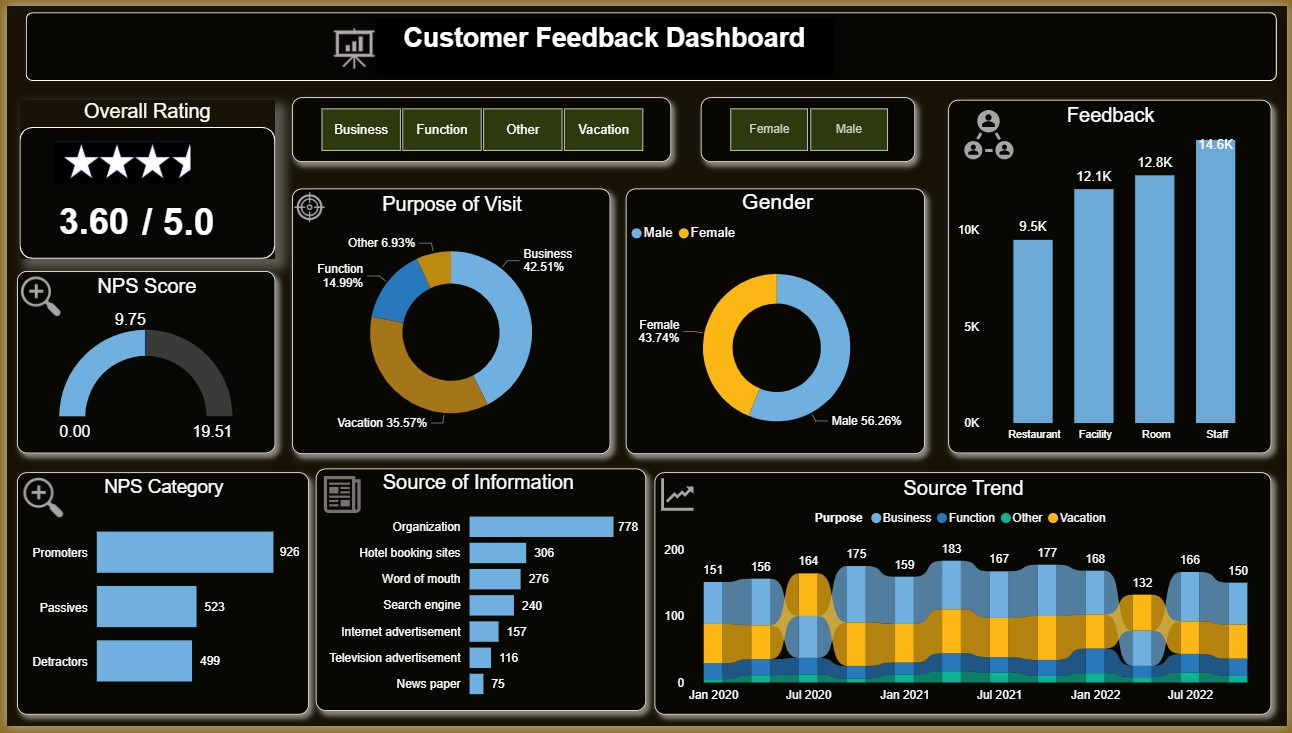

The dashboard page shown, as its layout file describes it:
{"tool":"powerbi","page":{"name":"Page 1","canvas":[1280,720],"ordinal":0},"visuals":[{"type":"shape","box":[19.3,6,1251.1,68.8],"z":0},{"type":"shape","title":"Overall Rating","box":[12.1,94.1,255.8,159.3],"z":1000},{"type":"slicer","fields":{"Values":["General.Purpose"]},"box":[284.7,91.7,378.8,65.1],"z":2000},{"type":"slicer","fields":{"Values":["General.Gender"]},"box":[693.7,91.7,214.7,65.1],"z":3000},{"type":"gauge","fields":{"Y":["General.NPS Score %"]},"box":[9.7,265.4,258.2,182.2],"z":4000},{"type":"clusteredBarChart","title":"NPS Category","fields":{"Category":["General.NPS"],"Y":["CountNonNull(General.NPS)"]},"box":[9.7,465.7,292,242.5],"z":5000},{"type":"donutChart","title":" Purpose of Visit","fields":{"Category":["General.Purpose"],"Y":["CountNonNull(General.Purpose)"]},"box":[284.7,182.2,318.5,265.4],"z":6000},{"type":"donutChart","title":"Gender ","fields":{"Category":["General.Gender"],"Y":["CountNonNull(General.Gender)"]},"box":[618.9,182.2,299.2,265.4],"z":7000},{"type":"clusteredBarChart","title":"Source of Information","fields":{"Category":["General.Source"],"Y":["CountNonNull(General.Source)"]},"box":[308.8,462.1,330.6,242.5],"z":8000},{"type":"ribbonChart","title":" Source Trend","fields":{"Y":["CountNonNull(General.Source)"],"Series":["General.Purpose"],"Category":["General.Checkout Date (bins)"]},"box":[647.9,465.7,616.5,242.5],"z":9000},{"type":"clusteredColumnChart","title":"Feedback","fields":{"Category":["Feedback.Feedback_Category","Feedback.Feedback"],"Y":["Sum(Feedback.Rating Score)"]},"box":[941,94.1,323.3,353.5],"z":10000},{"type":"card","fields":{"Values":["Avg(General.Overall experience)"]},"box":[19.3,182.2,136.3,62.7],"z":11000},{"type":"textbox","box":[130.3,190.6,106.2,70],"z":12000},{"type":"image","box":[285,150,35,102.5],"z":13000},{"type":"image","box":[301.6,15.7,91.7,51.9],"z":14000},{"type":"image","box":[918.1,94.1,129.1,70],"z":15000},{"type":"image","box":[9.7,265.4,48.3,49.5],"z":16000},{"type":"image","box":[47.1,94.1,136.3,125.5],"z":17000},{"type":"image","box":[12.1,465.7,48.3,49.5],"z":18000},{"type":"image","box":[301.6,462.1,67.6,51.9],"z":19000},{"type":"image","box":[647.9,442.8,45.8,91.7],"z":20000},{"type":"textbox","box":[369.2,12.1,457.2,56.7],"z":21000}]}

Visuals, with their boxes in screenshot pixels (x1, y1, x2, y2), scaled from the page's 1280x720 canvas onto the 1292x733 screenshot:
shape: 19 6 1282 76
"Overall Rating" shape: 12 96 270 258
slicer - General.Purpose: 287 93 670 160
slicer - General.Gender: 700 93 917 160
gauge - General.NPS Score %: 10 270 270 456
"NPS Category" clusteredBarChart: 10 474 305 721
" Purpose of Visit" donutChart: 287 185 609 456
"Gender " donutChart: 625 185 927 456
"Source of Information" clusteredBarChart: 312 470 645 717
" Source Trend" ribbonChart: 654 474 1276 721
"Feedback" clusteredColumnChart: 950 96 1276 456
card - Avg(General.Overall experience): 19 185 157 249
textbox: 132 194 239 265
image: 288 153 323 257
image: 304 16 397 69
image: 927 96 1057 167
image: 10 270 59 321
image: 48 96 185 224
image: 12 474 61 525
image: 304 470 373 523
image: 654 451 700 544
textbox: 373 12 834 70
